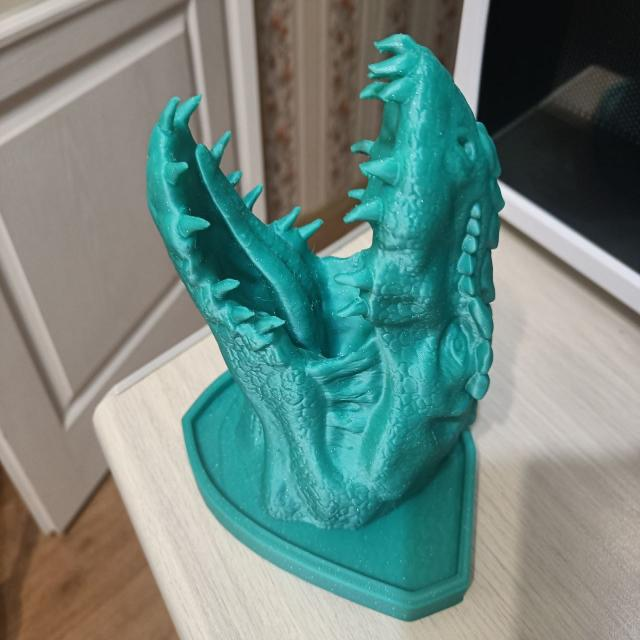Without deffect: (124, 12, 504, 628)
